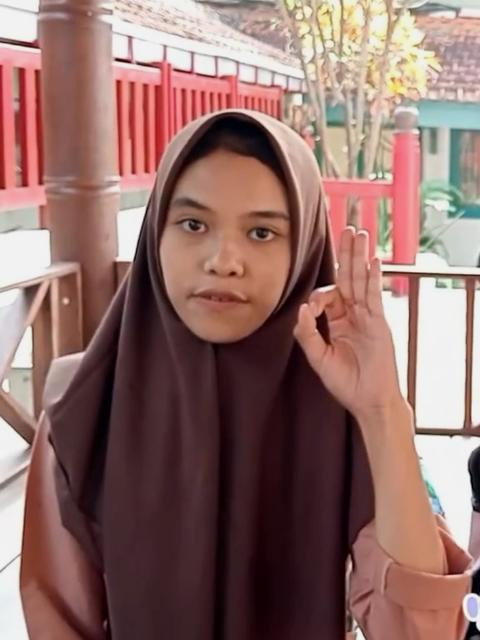F: (289, 226, 395, 412)
